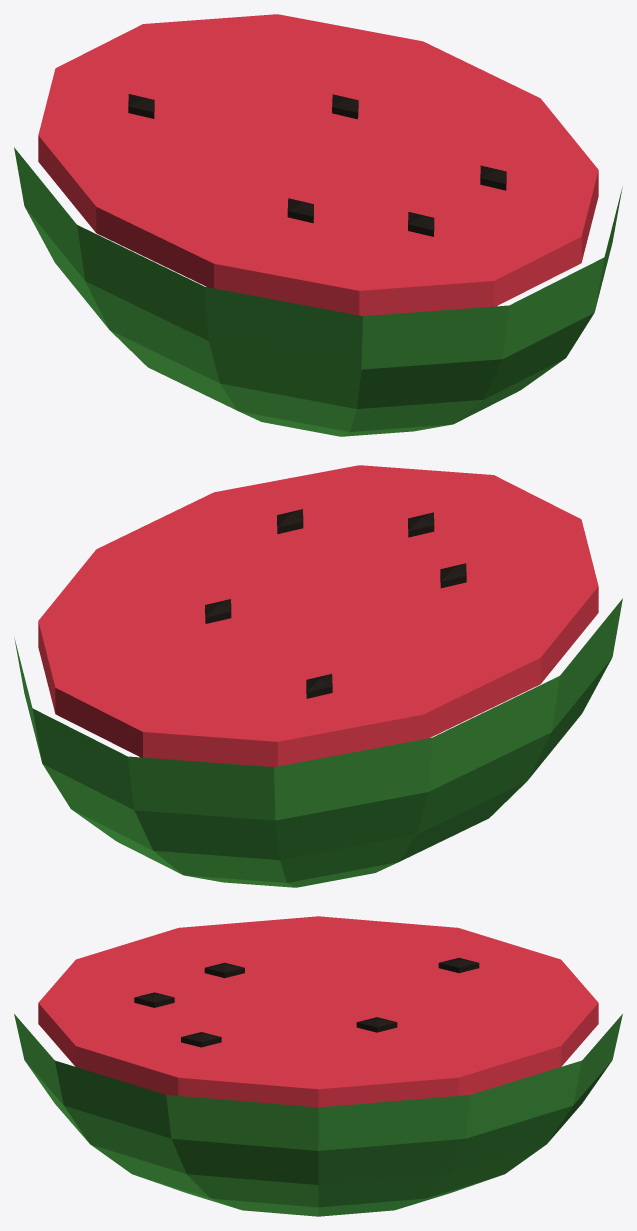
File: watermelon_half.glb
The picture shows the model from 3 angles, top to bottom: view 1: azimuth 30°, elevation 25°; view 2: azimuth 150°, elevation 25°; view 3: azimuth 270°, elevation 25°; orthographic projection. The views are drawn at different scales.
Parts seen in each view (by area): view 1: flesh_watermelon_flesh, rind_watermelon_rind, flesh_watermelon_seed; view 2: flesh_watermelon_flesh, rind_watermelon_rind, flesh_watermelon_seed; view 3: flesh_watermelon_flesh, rind_watermelon_rind, flesh_watermelon_seed.
Part boxes in pixels (x1=…): flesh_watermelon_flesh: x1=38, y1=14, x2=598, y2=316; rind_watermelon_rind: x1=14, y1=147, x2=622, y2=436; flesh_watermelon_seed: x1=128, y1=94, x2=506, y2=236; flesh_watermelon_flesh: x1=38, y1=465, x2=598, y2=767; rind_watermelon_rind: x1=14, y1=598, x2=622, y2=887; flesh_watermelon_seed: x1=205, y1=509, x2=466, y2=698; flesh_watermelon_flesh: x1=38, y1=916, x2=598, y2=1107; rind_watermelon_rind: x1=14, y1=1014, x2=622, y2=1216; flesh_watermelon_seed: x1=134, y1=957, x2=479, y2=1047.
Size of the model in its own units: 0.38 by 0.188 by 0.52.
